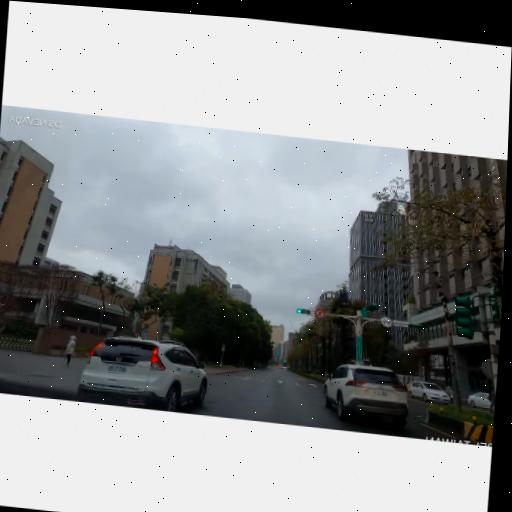Car: (69, 326, 212, 416), (323, 359, 412, 432), (403, 372, 453, 407), (462, 380, 496, 415)
